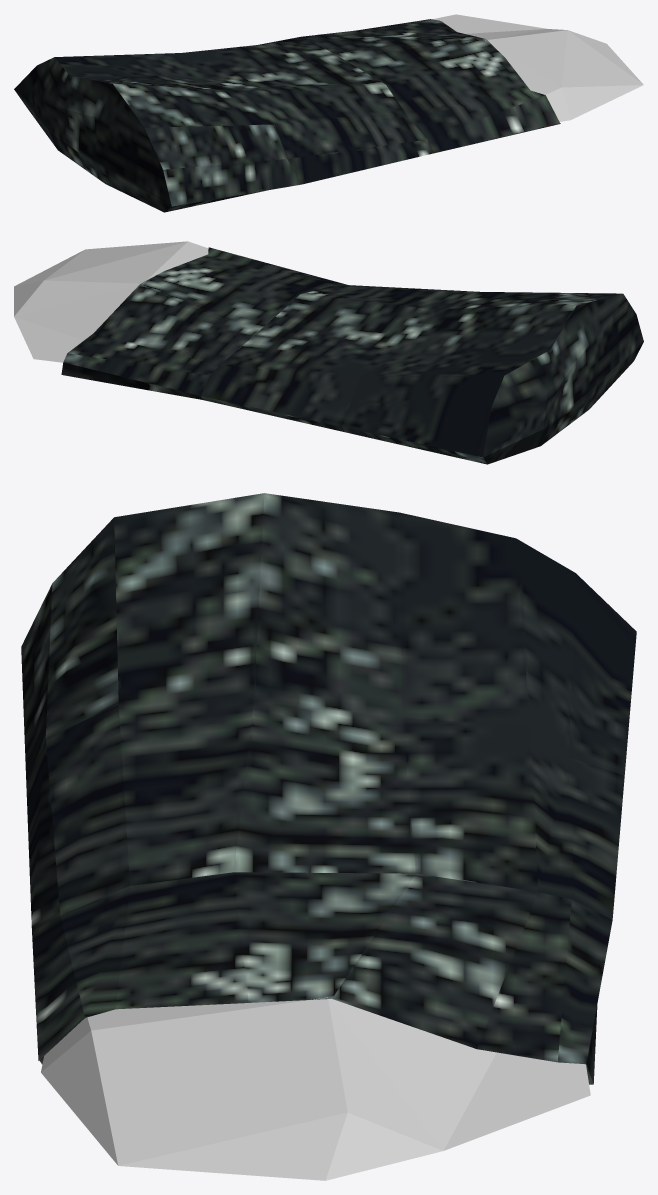
The model's file is basura4.fbx.
The picture shows the model from 3 angles, top to bottom: view 1: azimuth 30°, elevation 25°; view 2: azimuth 150°, elevation 25°; view 3: azimuth 270°, elevation 25°; orthographic projection. The views are drawn at different scales.
Visible parts, largest first — view 1: trashbag_3; view 2: trashbag_3; view 3: trashbag_3.
Boxes of the visible parts, x1,y1,x2,y2 form: trashbag_3: (14, 14, 643, 212); trashbag_3: (14, 241, 643, 464); trashbag_3: (21, 493, 636, 1180).
Bounding box in the file's own units: 173 × 31.75 × 86.94.
